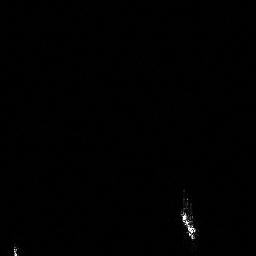ship: (174, 201, 203, 245)
